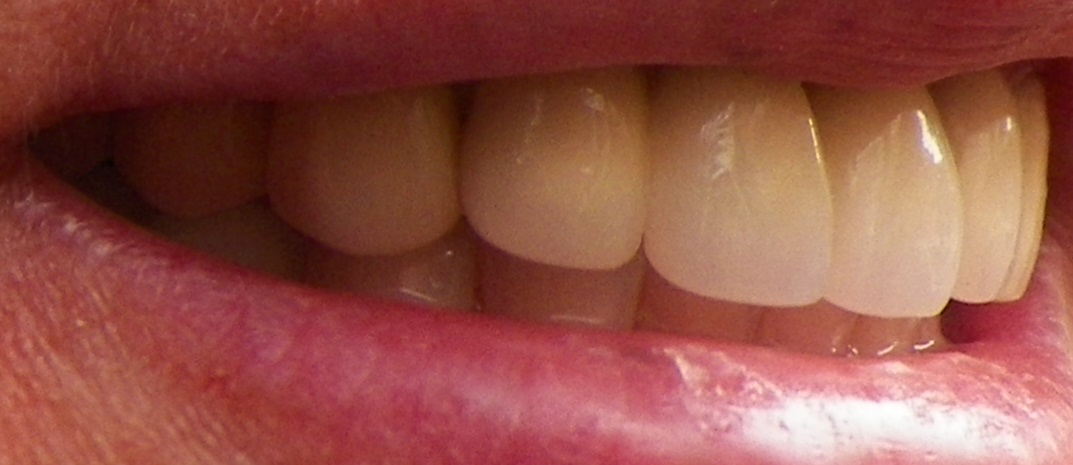boca: (61, 62, 1058, 372)
